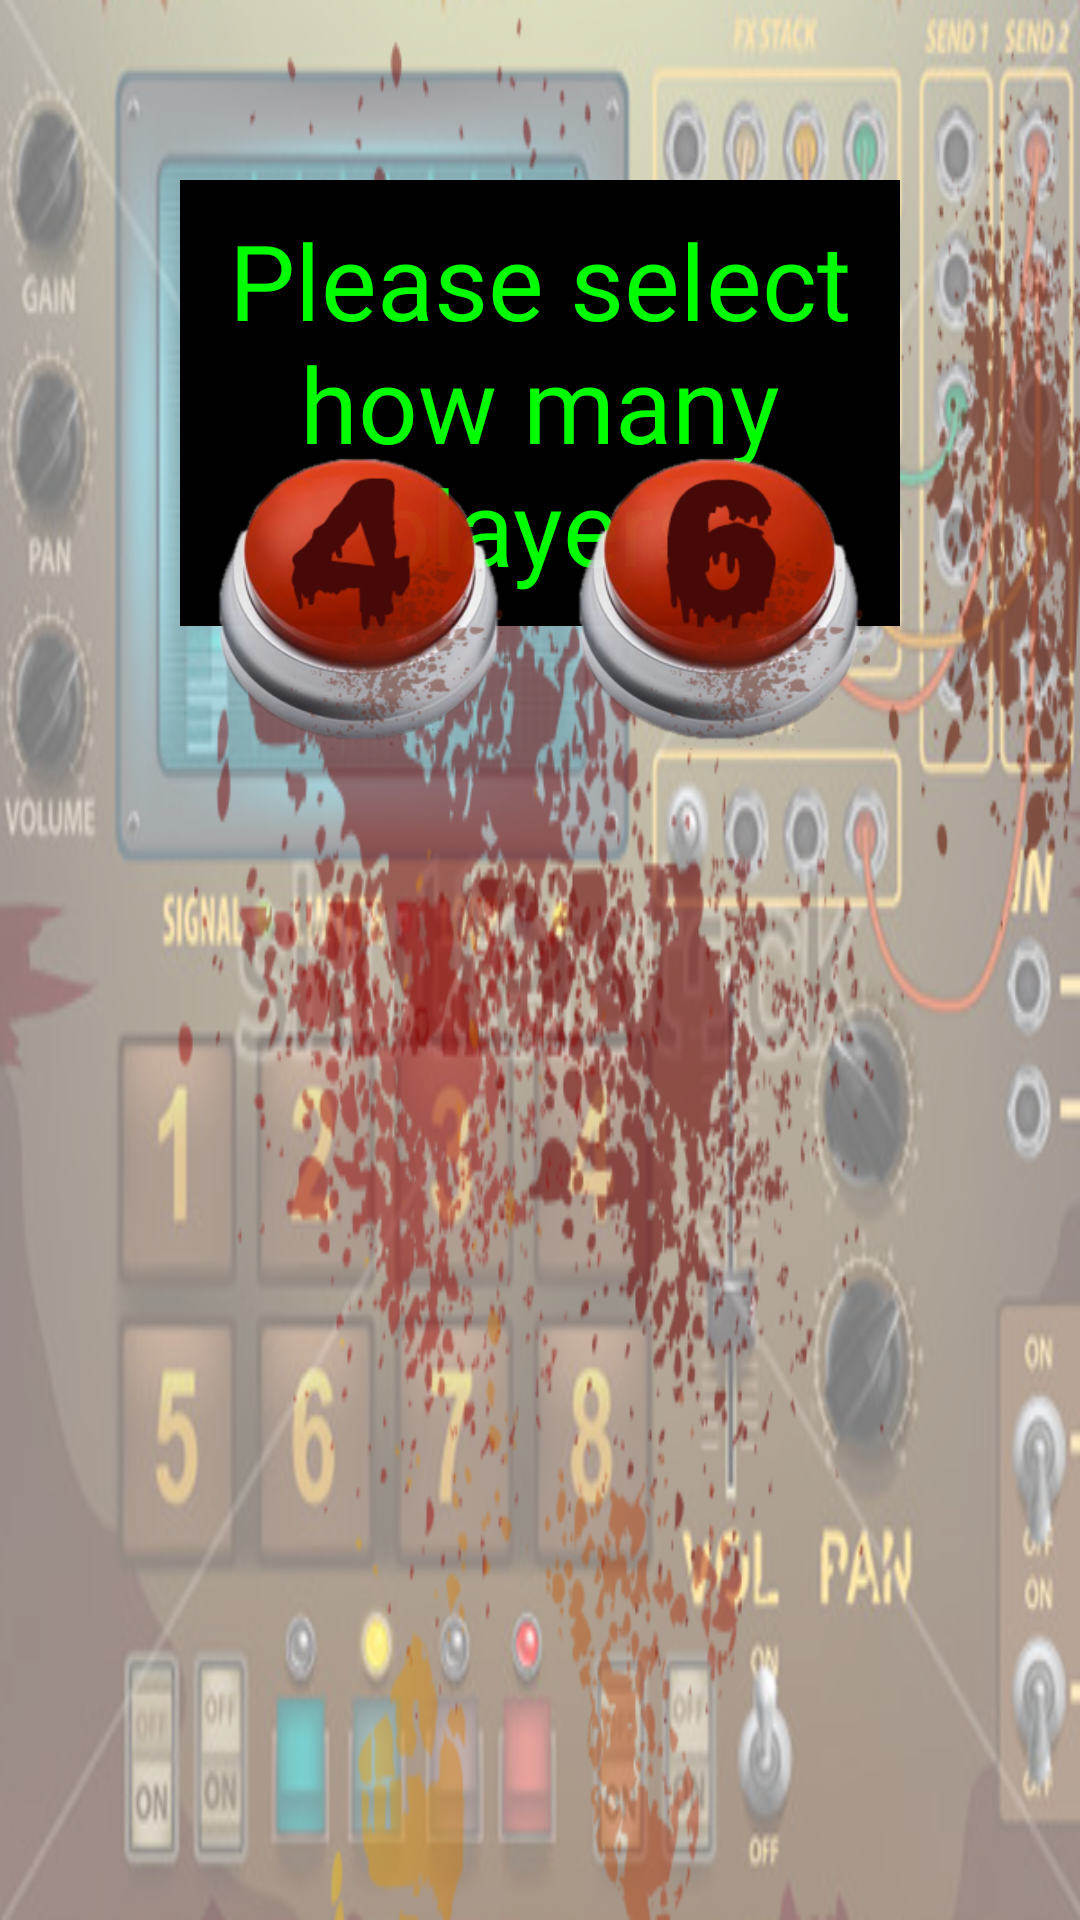

Icon click points for this 1080px×1920px phone screenshot, format [x,y]:
numberfourbutton: [360,600]
numbersixbutton: [720,600]
